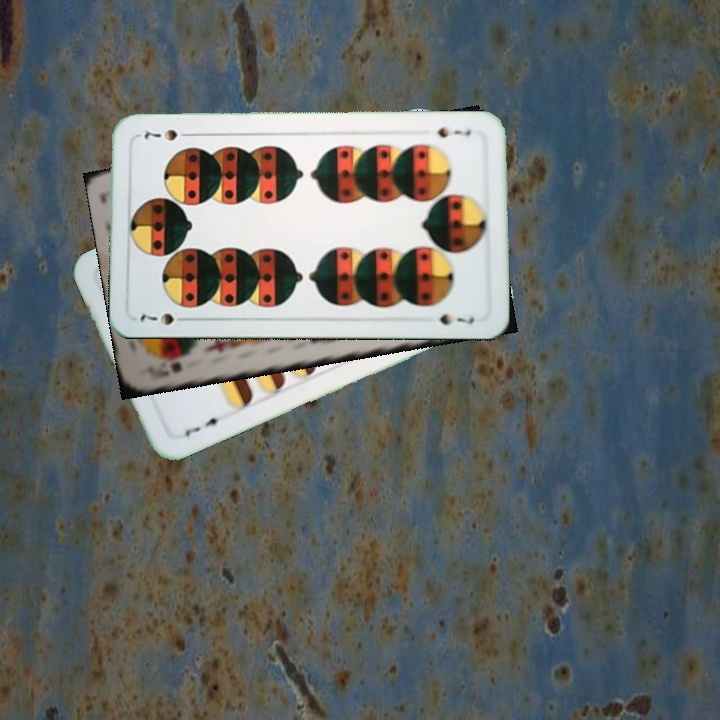E7: (180, 413, 227, 439)
S7: (136, 309, 193, 328), (434, 124, 474, 141)
SK: (142, 358, 184, 380)
